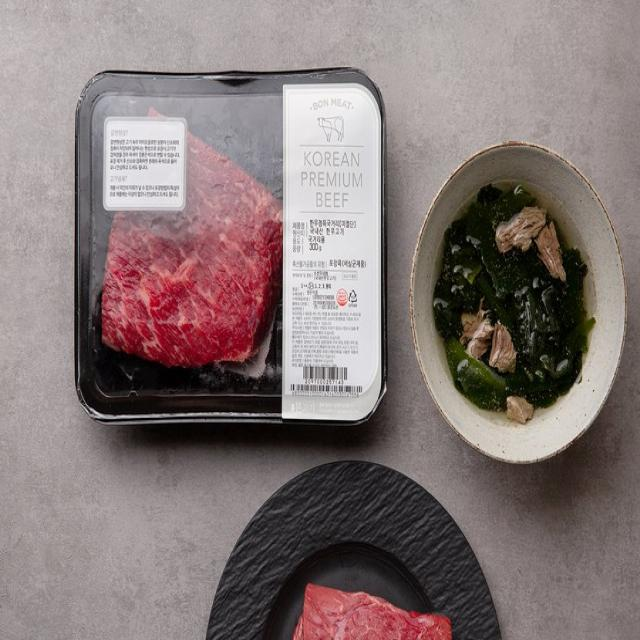beef: (83, 92, 370, 412)
